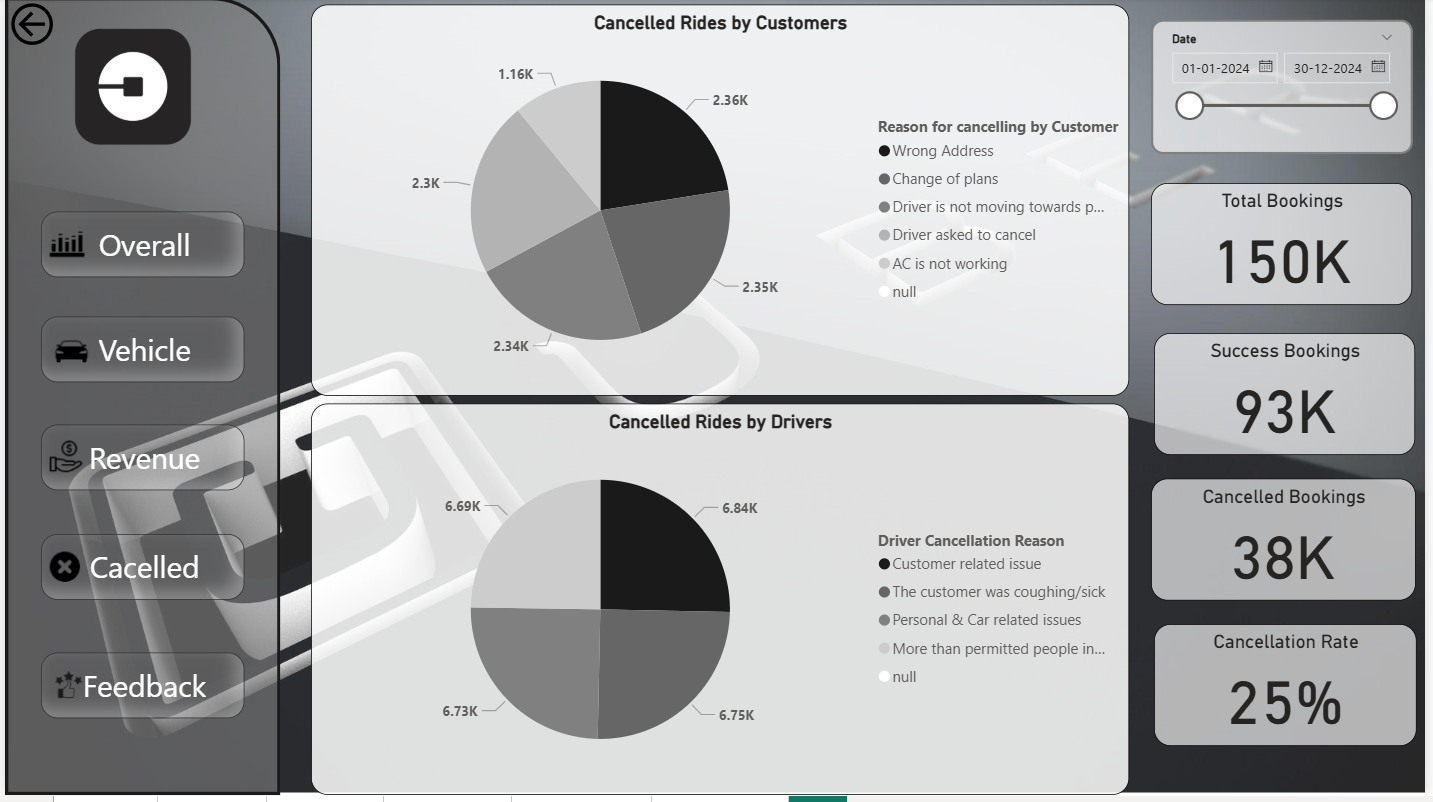

The dashboard page shown, as its layout file describes it:
{"tool":"powerbi","page":{"name":"Cancelled","canvas":[1280,720],"ordinal":4},"visuals":[{"type":"shape","box":[0,0,248.3,719.2],"z":0},{"type":"image","box":[0,16.7,230.2,128.7],"z":1000},{"type":"actionButton","box":[31.8,193.8,183.2,59.1],"z":2000},{"type":"actionButton","box":[31.8,484.5,183.2,59.1],"z":3000},{"type":"actionButton","box":[31.8,287.7,183.2,59.1],"z":4000},{"type":"actionButton","box":[31.8,384.6,183.2,59.1],"z":5000},{"type":"actionButton","box":[31.8,590.5,183.2,59.1],"z":6000},{"type":"slicer","fields":{"Values":["ncr_ride_bookings.Date"]},"box":[1032.7,19.7,236.2,121.1],"z":7000},{"type":"card","title":"Total Bookings ","fields":{"Values":["ncr_ride_bookings.Total bookings"]},"box":[1033.4,168.2,235.4,110.1],"z":8000},{"type":"pieChart","title":"Cancelled Rides by Customers","fields":{"Category":["ncr_ride_bookings.Reason for cancelling by Customer"],"Y":["Sum(ncr_ride_bookings.Cancelled Rides by Customer)"]},"box":[276,6.5,737.2,352.3],"z":9000},{"type":"card","title":"Success Bookings","fields":{"Values":["ncr_ride_bookings.success bookings"]},"box":[1034.9,302.7,235.4,110.1],"z":10000},{"type":"pieChart","title":"Cancelled Rides by Drivers","fields":{"Category":["ncr_ride_bookings.Driver Cancellation Reason"],"Y":["Sum(ncr_ride_bookings.Cancelled Rides by Driver)"]},"box":[276,367,737.2,352.3],"z":11000},{"type":"card","title":"Cancelled Bookings","fields":{"Values":["ncr_ride_bookings.Cancelled bookings"]},"box":[1033.4,434.1,238.5,110.1],"z":12000},{"type":"card","title":"Cancellation Rate","fields":{"Values":["ncr_ride_bookings.Cancelled percentage"]},"box":[1034.9,565.6,236.9,110.1],"z":13000},{"type":"actionButton","box":[0,0,114.7,48.9],"z":14000}]}

Visuals, with their boxes in screenshot pixels (x1, y1, x2, y2), scaled from the page's 1280x720 canvas onto the 1433x802 screenshot:
shape: [left=0, top=0, right=278, bottom=801]
image: [left=0, top=19, right=258, bottom=162]
actionButton: [left=36, top=216, right=241, bottom=282]
actionButton: [left=36, top=540, right=241, bottom=606]
actionButton: [left=36, top=320, right=241, bottom=386]
actionButton: [left=36, top=428, right=241, bottom=494]
actionButton: [left=36, top=658, right=241, bottom=724]
slicer - ncr_ride_bookings.Date: [left=1156, top=22, right=1421, bottom=157]
"Total Bookings " card: [left=1157, top=187, right=1420, bottom=310]
"Cancelled Rides by Customers" pieChart: [left=309, top=7, right=1134, bottom=400]
"Success Bookings" card: [left=1159, top=337, right=1422, bottom=460]
"Cancelled Rides by Drivers" pieChart: [left=309, top=409, right=1134, bottom=801]
"Cancelled Bookings" card: [left=1157, top=484, right=1424, bottom=606]
"Cancellation Rate" card: [left=1159, top=630, right=1424, bottom=753]
actionButton: [left=0, top=0, right=128, bottom=54]
